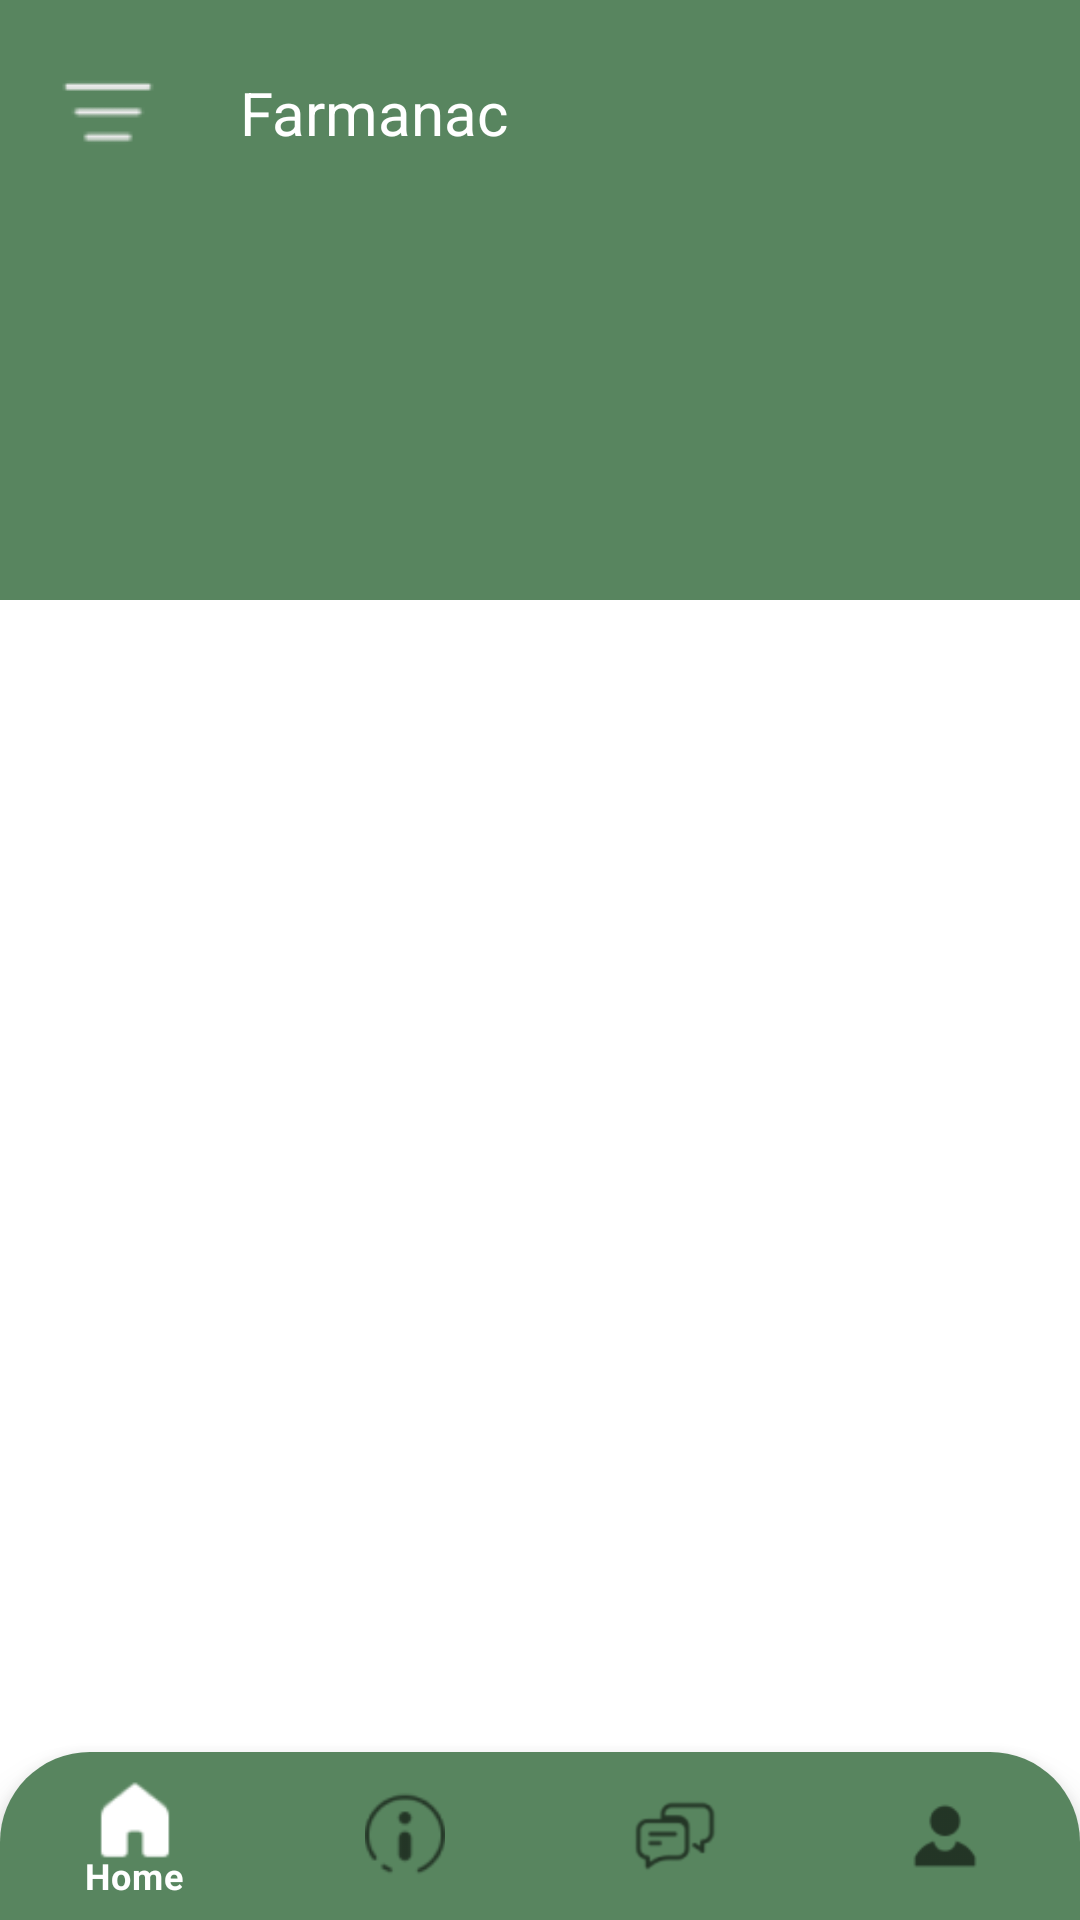

Screen size 1080px×1920px. Icon name, then its box in pixels as (x1, y1, x2, y2):
menu: (64, 83, 152, 142)
